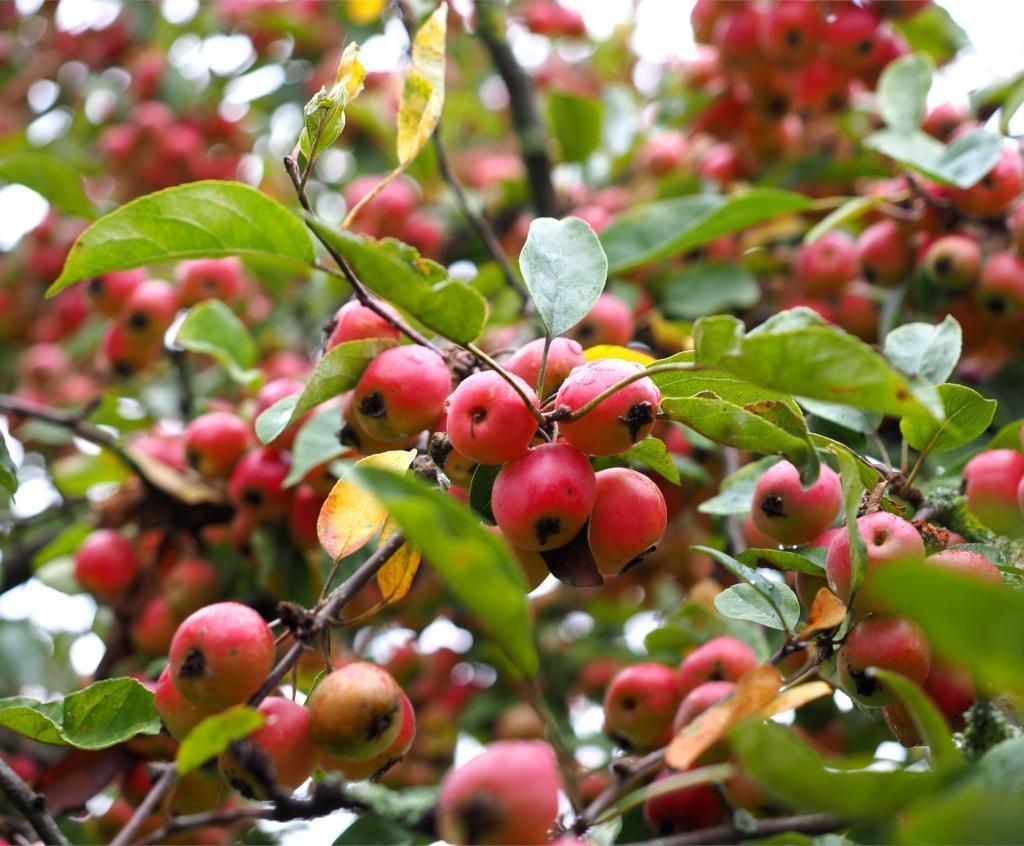apple: (435, 739, 560, 842), (482, 444, 597, 554), (166, 599, 277, 711), (303, 661, 413, 768), (435, 363, 543, 469), (344, 341, 448, 451), (561, 359, 664, 460), (825, 509, 919, 609), (588, 465, 668, 576), (745, 459, 843, 545), (843, 614, 932, 703), (602, 664, 681, 749), (960, 449, 1018, 526), (676, 633, 756, 681), (673, 680, 736, 733)
